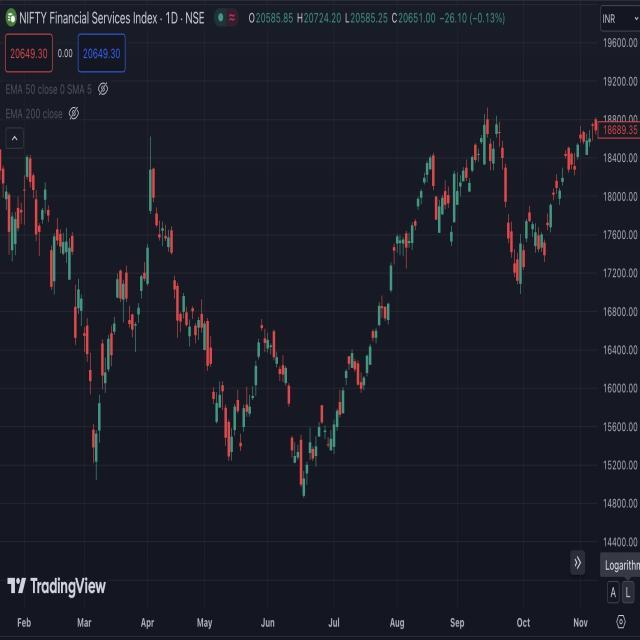GAP DOWN: (88, 351, 97, 472), (502, 161, 514, 245), (71, 235, 79, 344), (46, 195, 54, 298), (431, 152, 442, 225), (234, 385, 244, 462), (285, 384, 295, 458), (208, 342, 218, 412), (170, 223, 178, 304), (446, 193, 454, 250)
GAP UP: (144, 130, 153, 294), (383, 254, 401, 330), (413, 172, 426, 236), (110, 274, 122, 339), (254, 310, 266, 364), (490, 110, 500, 170), (542, 206, 550, 270), (560, 144, 569, 188), (468, 158, 476, 195)
